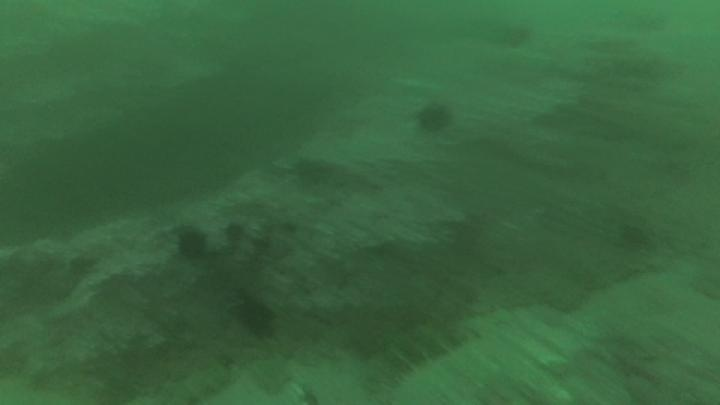echinus: (232, 293, 279, 340), (614, 219, 655, 256), (414, 100, 454, 136), (174, 225, 210, 262), (495, 20, 534, 52), (221, 219, 249, 248)
holothurian: (360, 313, 472, 389)
